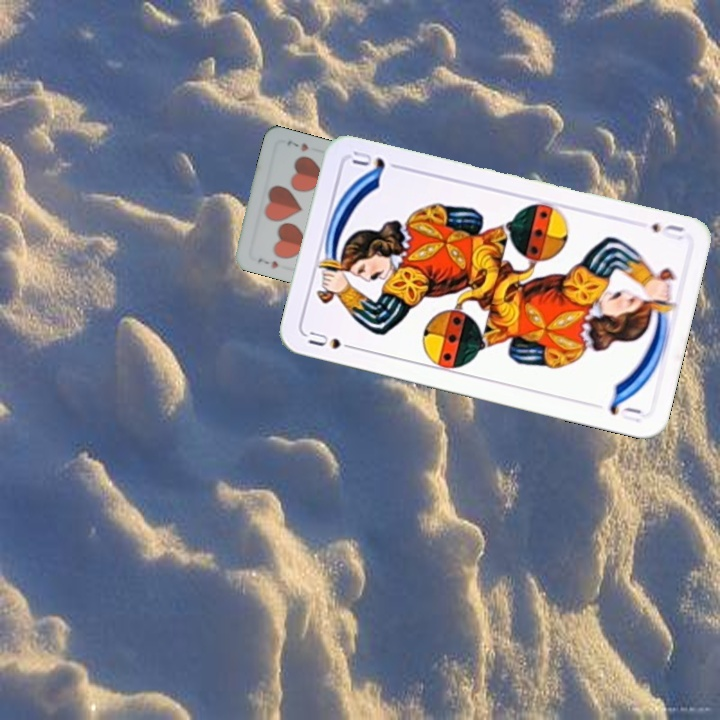H7: (253, 254, 281, 271)
SU: (304, 327, 361, 353), (647, 219, 687, 243)
